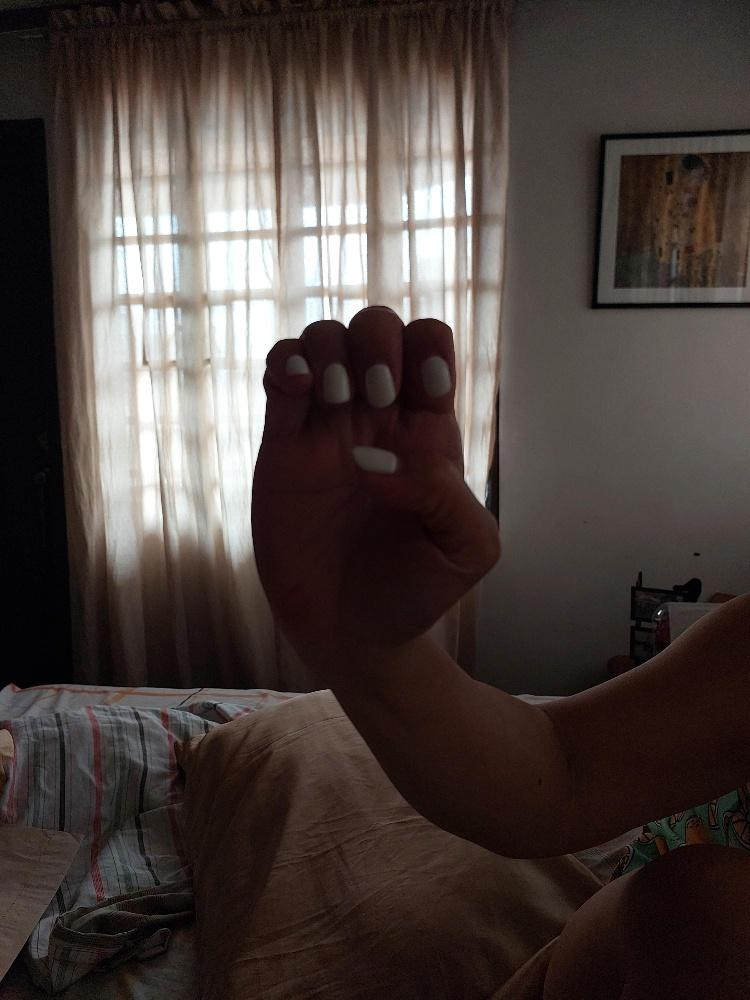e: (243, 303, 506, 659)
